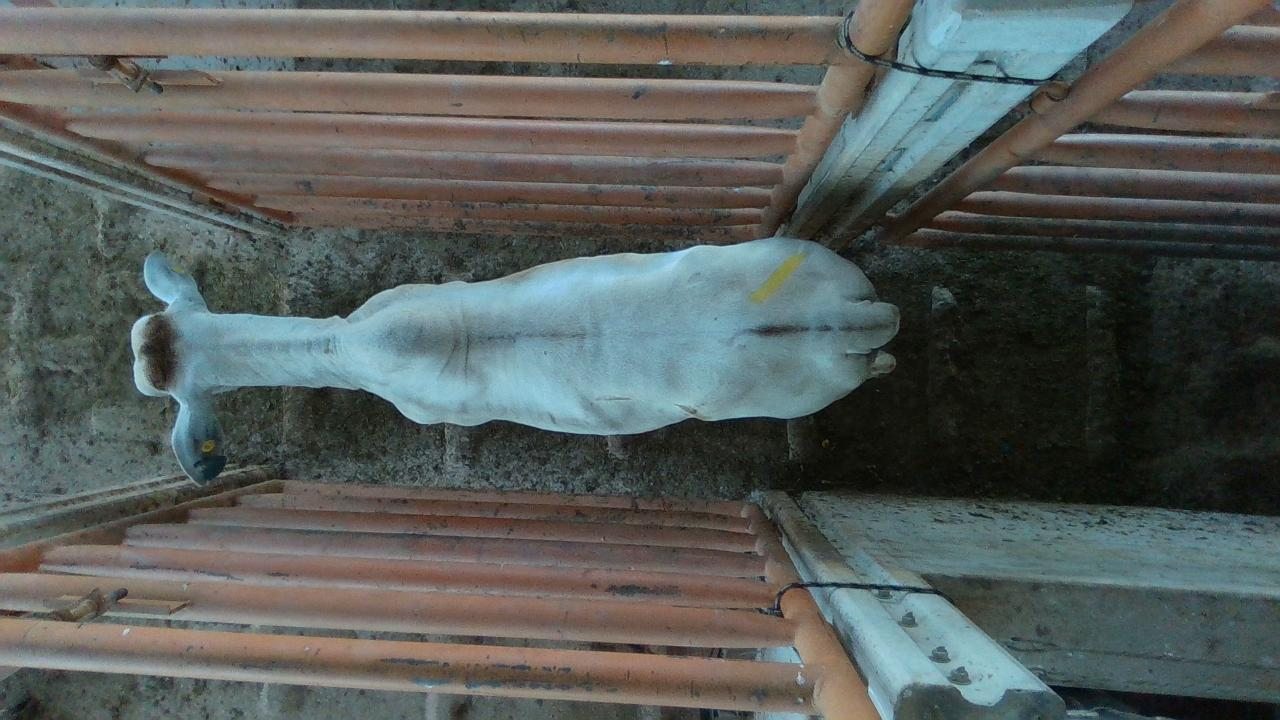cattle: (129, 234, 901, 487)
